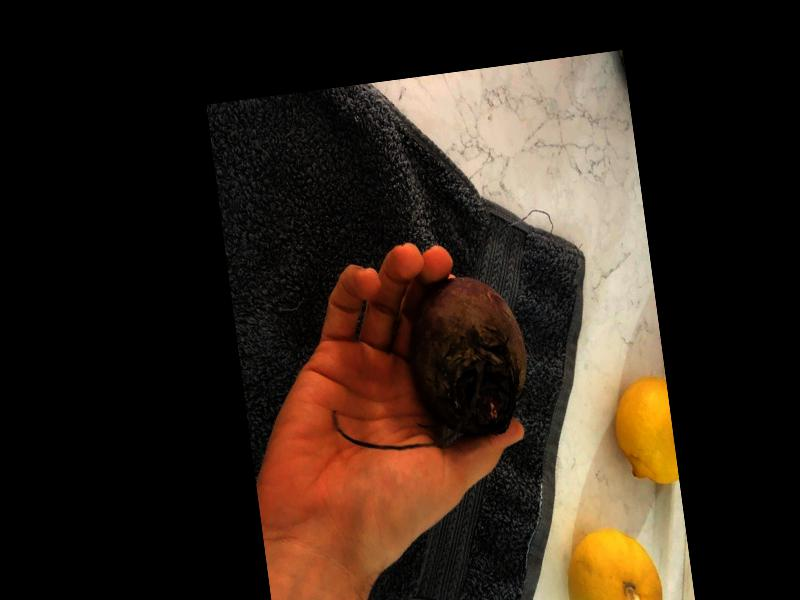Beet: (316, 267, 536, 454)
